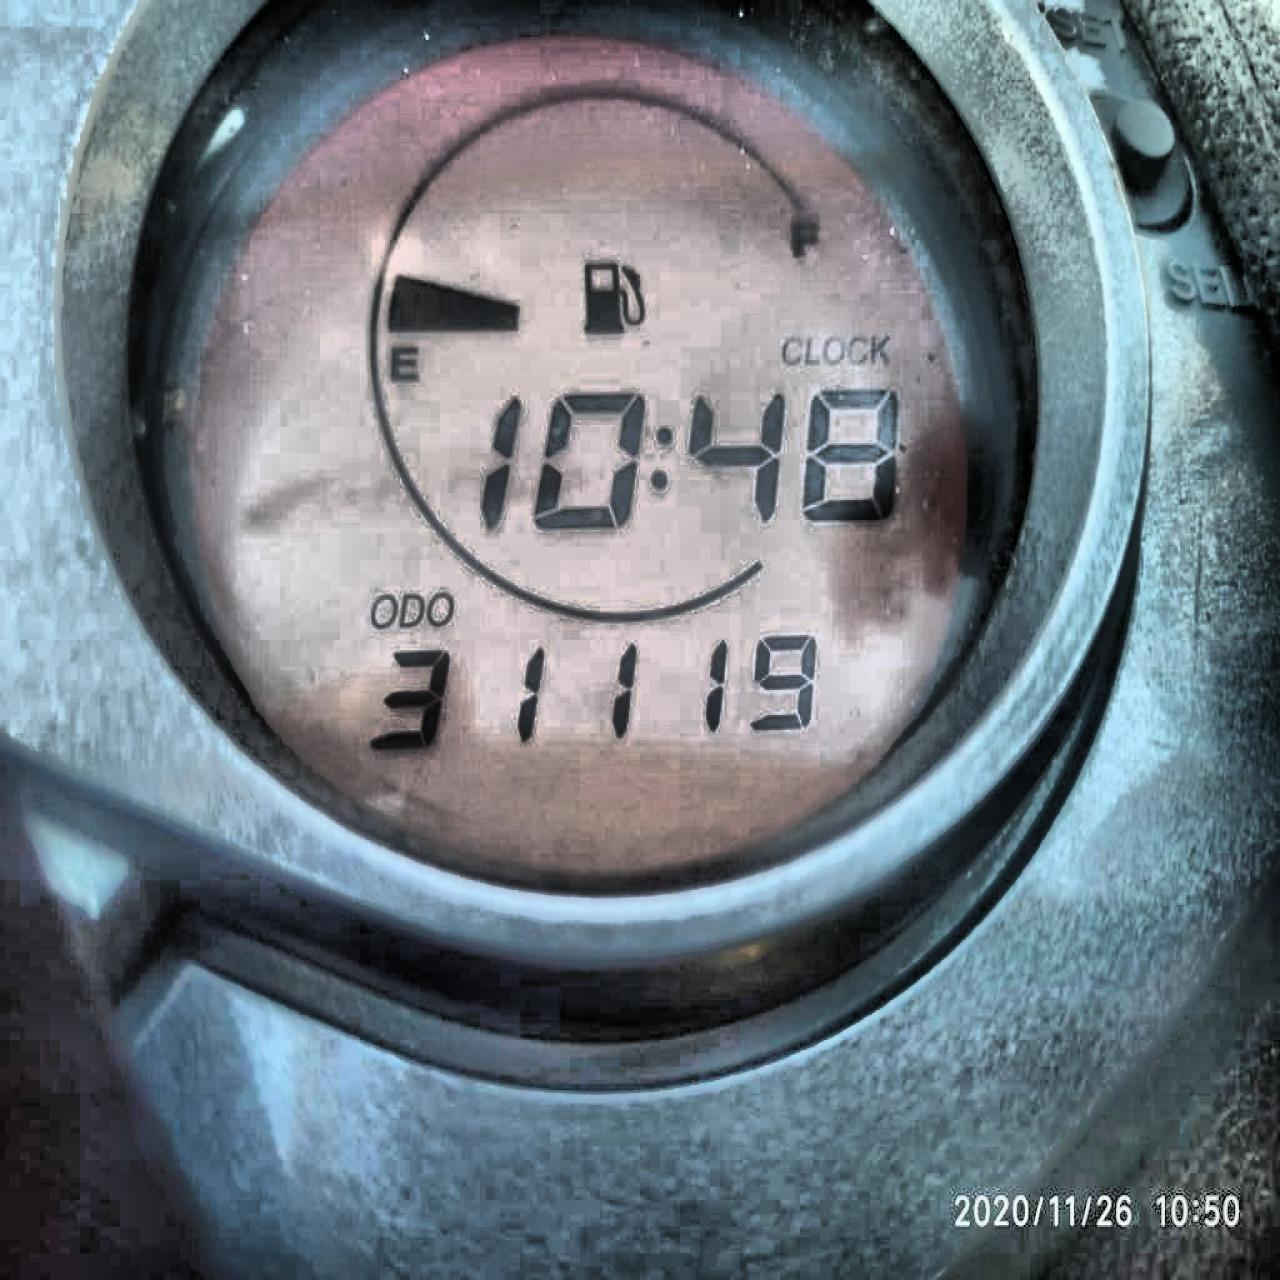0: (532, 390, 644, 530)
1: (477, 395, 522, 530), (515, 645, 545, 743), (610, 641, 635, 736), (702, 640, 727, 731)
3: (367, 647, 451, 751)
4: (685, 392, 785, 525)
8: (799, 384, 899, 523)
9: (750, 632, 816, 730)
X: (647, 422, 675, 493), (788, 215, 823, 258), (388, 340, 421, 383), (424, 586, 454, 626), (396, 590, 424, 628), (369, 590, 396, 629), (778, 333, 803, 367), (823, 334, 844, 363), (846, 334, 867, 363), (869, 332, 890, 361), (804, 333, 821, 365)
odometer: (96, 25, 1068, 925)
